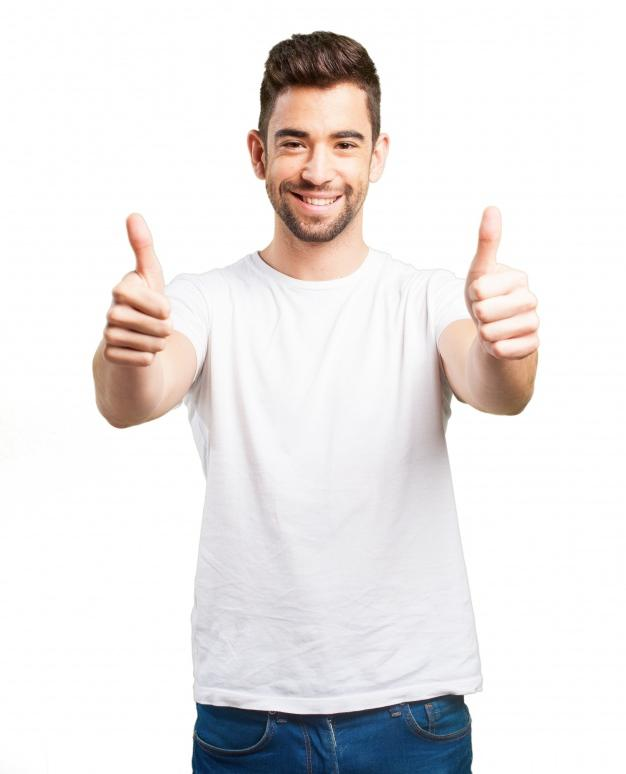thumbsup: (467, 206, 540, 359), (103, 211, 172, 366)
